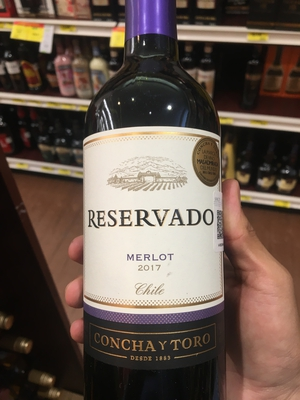reservado merlot: (69, 27, 240, 400)
